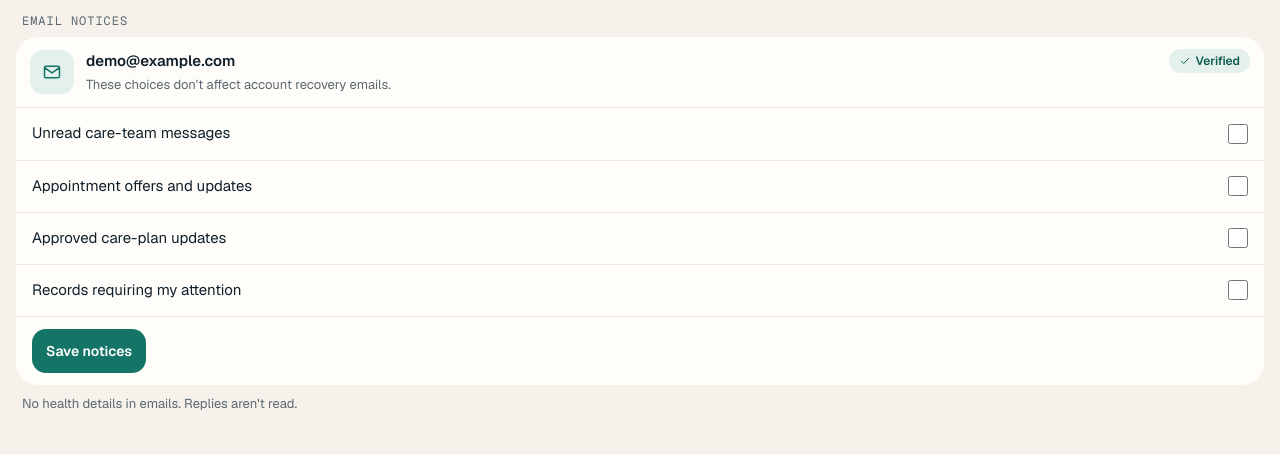
Test case: optional email preferences › saves only after the explicit action with the current session
The width and height of the screenshot is (1280, 454).
Click the checkbox labelled "Unread care-team messages" at {"x": 1238, "y": 134}, box x1=1228 y1=124 x2=1248 y2=144
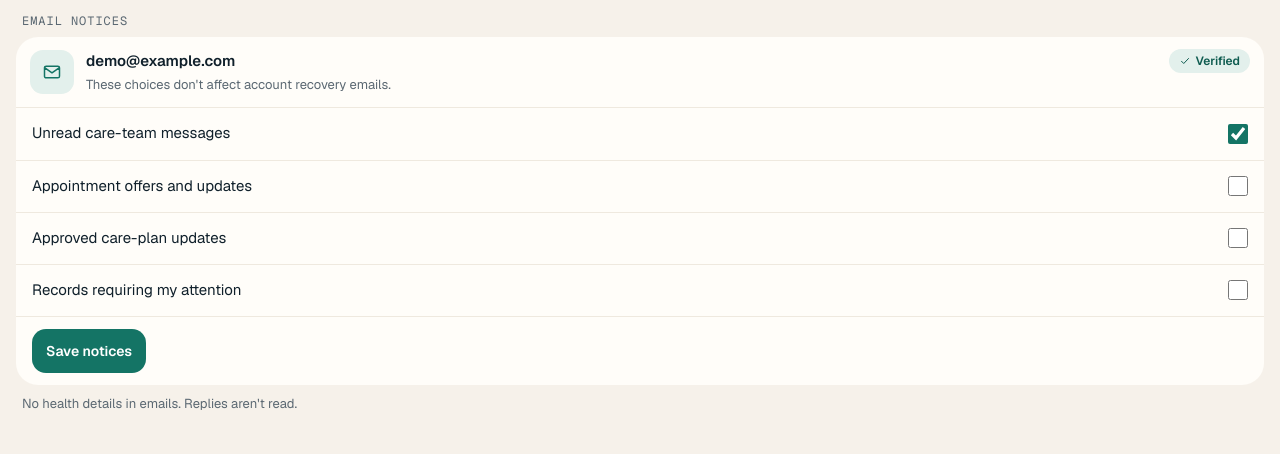
Click the button "Save notices" at {"x": 89, "y": 350}, box x1=32 y1=328 x2=146 y2=372
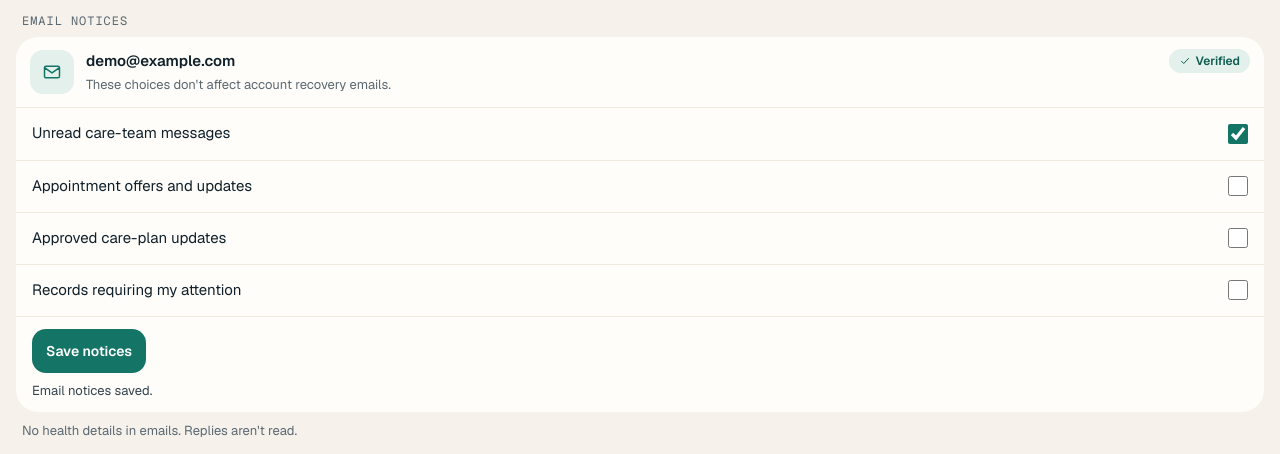
Expected: the text "Email notices saved." is shown, x1=32 y1=382 x2=152 y2=398
